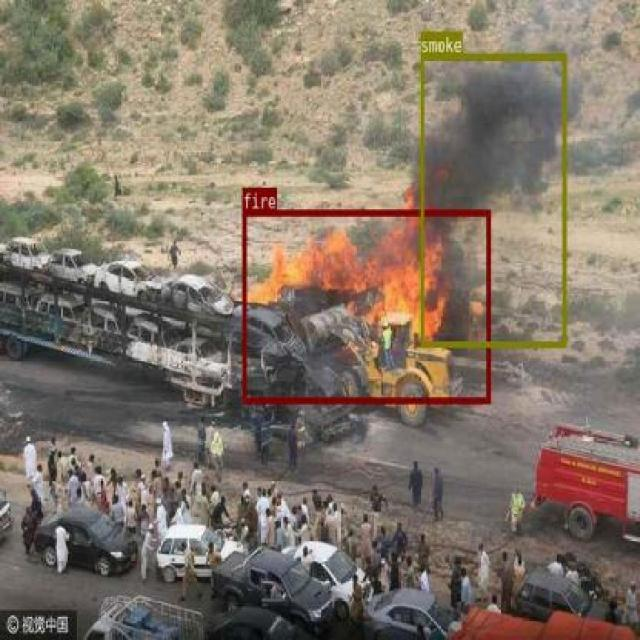Fire: (242, 210, 489, 402)
Smoke: (418, 51, 566, 347)
